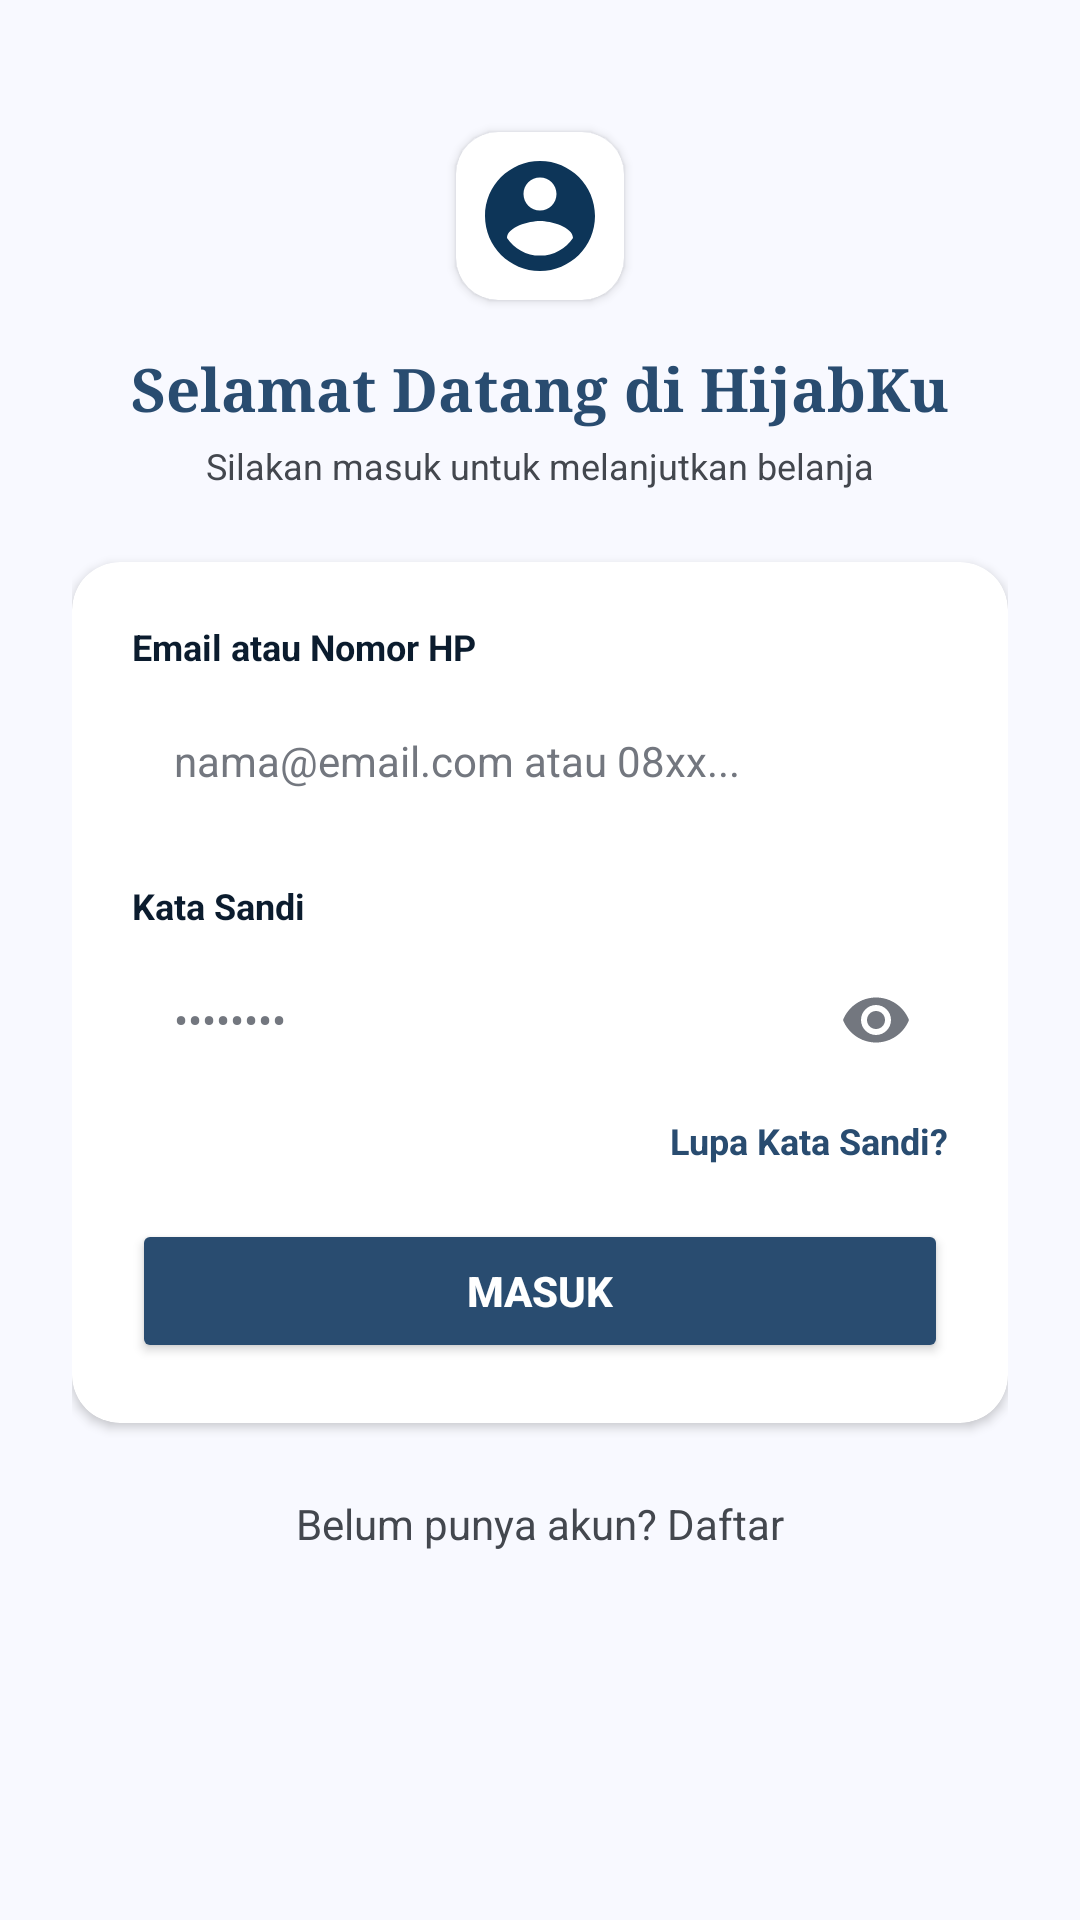

Screen size 1080px x 1920px. Icon name, then its box in pixels as (x1, y1, x2, y2):
Toggle Password: (843, 997, 909, 1043)
